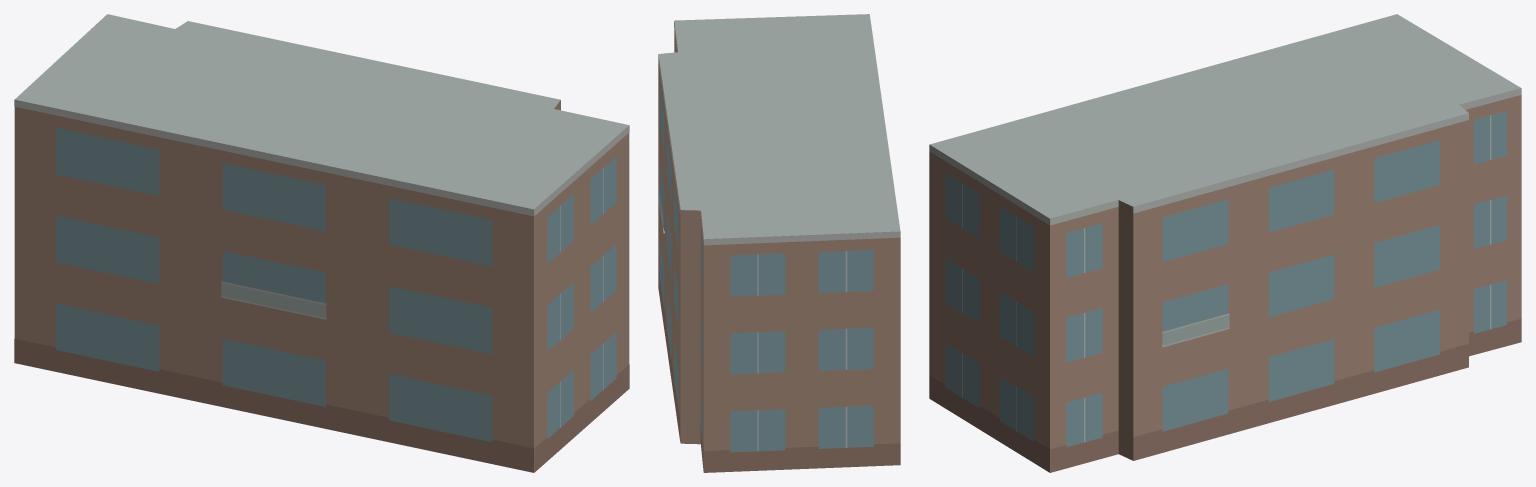
The model's file is survey-upis-32997441.glb.
The picture shows the model from 3 angles, left to right: view 1: azimuth 30°, elevation 25°; view 2: azimuth 150°, elevation 25°; view 3: azimuth 270°, elevation 25°; orthographic projection. The views are drawn at different scales.
Visible parts, largest first — view 1: survey-upis-32997441.tmp; view 2: survey-upis-32997441.tmp; view 3: survey-upis-32997441.tmp.
Part boxes in pixels (x1,y1,x2,y2): survey-upis-32997441.tmp: (14,14,629,472); survey-upis-32997441.tmp: (658,14,900,472); survey-upis-32997441.tmp: (929,14,1521,472).
Bounding box in the file's own units: 15.82 × 9.15 × 19.33.
